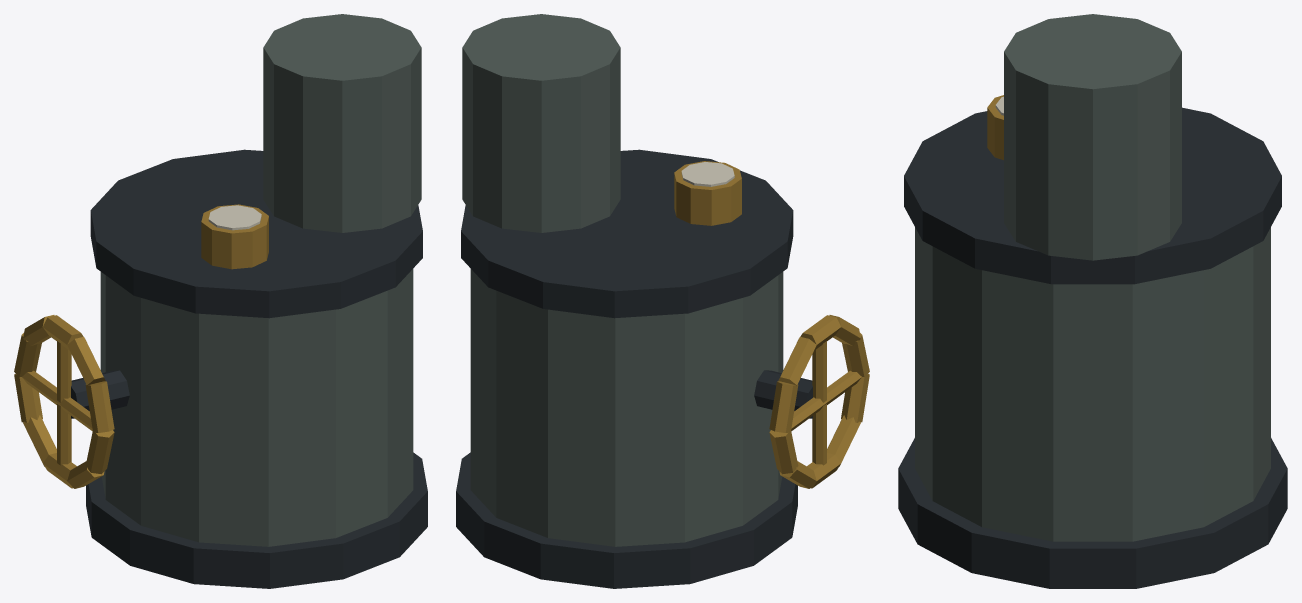
Rendered from bunker-valve.glb.
The picture shows the model from 3 angles, left to right: view 1: azimuth 30°, elevation 25°; view 2: azimuth 150°, elevation 25°; view 3: azimuth 270°, elevation 25°; orthographic projection. The views are drawn at different scales.
Parts seen in each view (by area): view 1: bunker-valve; view 2: bunker-valve; view 3: bunker-valve.
Part boxes in pixels (bbox=[...]): bunker-valve: bbox=[14, 14, 427, 588]; bunker-valve: bbox=[456, 14, 869, 588]; bunker-valve: bbox=[898, 14, 1287, 588].
Bounding box in the file's own units: 0.832 × 1 × 0.7.
